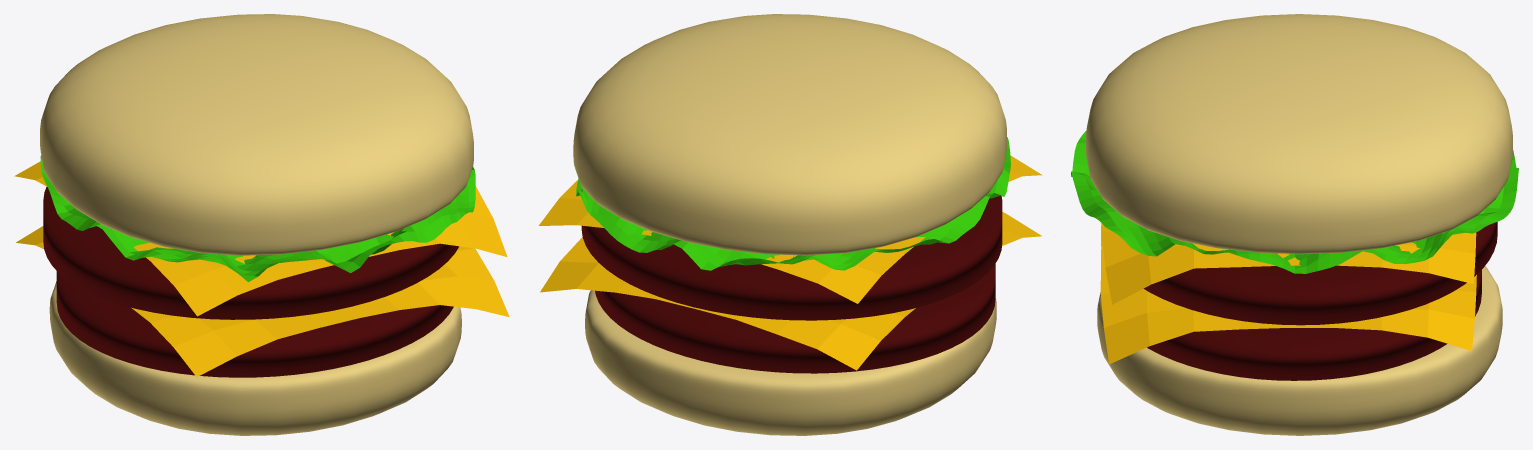
The picture shows the model from 3 angles, left to right: view 1: azimuth 30°, elevation 25°; view 2: azimuth 150°, elevation 25°; view 3: azimuth 270°, elevation 25°; orthographic projection.
Parts seen in each view (by area): view 1: Cube.001, Cube, Cylinder, Cylinder.001, Plane.003, Plane.001, Plane; view 2: Cube.001, Cube, Cylinder, Cylinder.001, Plane.003, Plane, Plane.001; view 3: Cube.001, Cube, Cylinder, Cylinder.001, Plane.003, Plane.001, Plane.
Boxes of the visible parts, x1,y1,x2,y2 form: Cube.001: [40, 14, 473, 255]; Cube: [49, 281, 461, 435]; Cylinder: [43, 187, 459, 319]; Cylinder.001: [56, 271, 453, 377]; Plane.003: [16, 226, 509, 376]; Plane.001: [14, 161, 507, 316]; Plane: [40, 155, 475, 282]; Cube.001: [573, 14, 1006, 255]; Cube: [585, 290, 996, 435]; Cylinder: [581, 195, 1002, 320]; Cylinder.001: [595, 264, 995, 373]; Plane.003: [540, 212, 1041, 370]; Plane: [576, 137, 1010, 270]; Plane.001: [538, 155, 1042, 303]; Cube.001: [1086, 14, 1512, 254]; Cube: [1097, 266, 1502, 435]; Cylinder: [1143, 222, 1497, 325]; Cylinder.001: [1147, 270, 1481, 380]; Plane.003: [1100, 226, 1476, 364]; Plane.001: [1101, 223, 1476, 304]; Plane: [1071, 130, 1518, 273].
Bounding box in the file's own units: 196 × 158 × 203.
